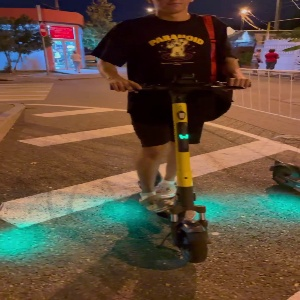human on a scooter: (88, 1, 254, 266)
